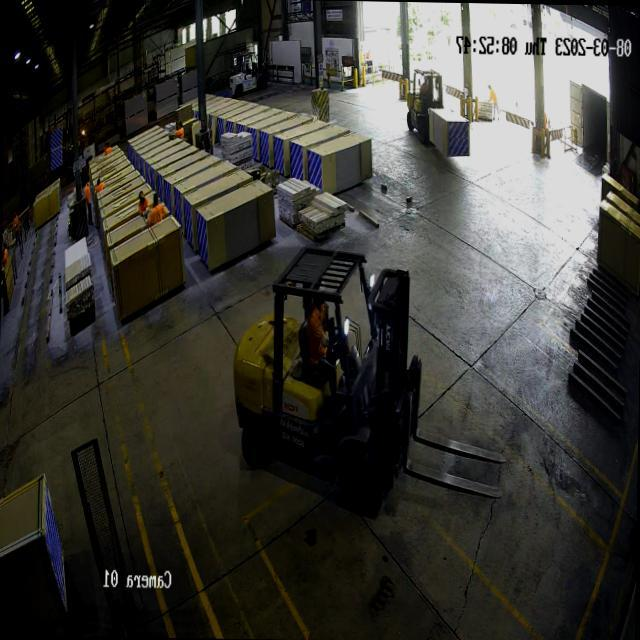forklift: (228, 236, 427, 526), (404, 68, 442, 143), (228, 51, 266, 98)
person: (147, 192, 166, 230), (83, 176, 93, 228), (138, 189, 148, 216)
